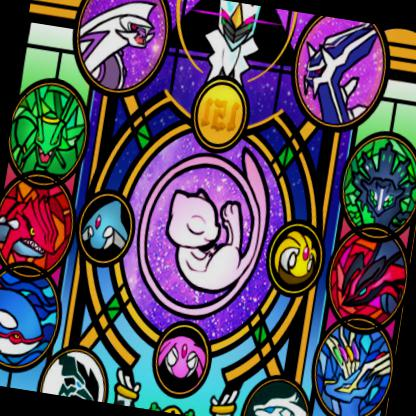Mew: (121, 134, 290, 341)
